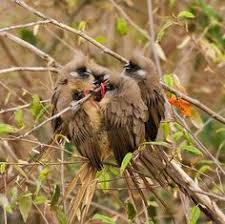target: (52, 56, 170, 163)
